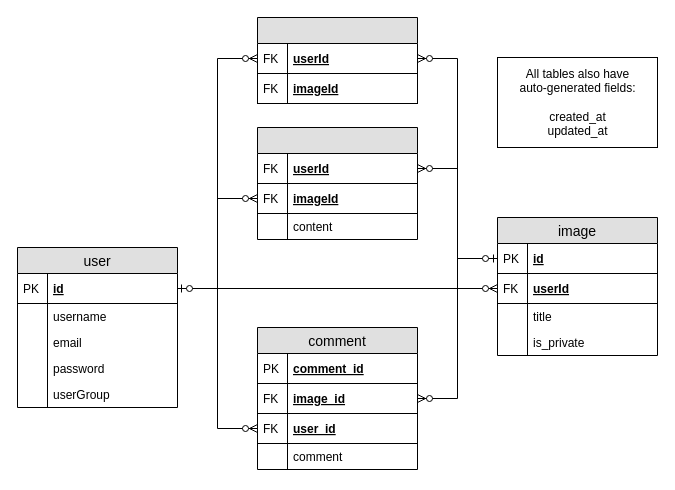
Image size: 675x490. Some labels were removed from this diagram. Each missing label, with the box of its shape:
favorite: (256, 16, 418, 104)
vote: (256, 126, 418, 240)
